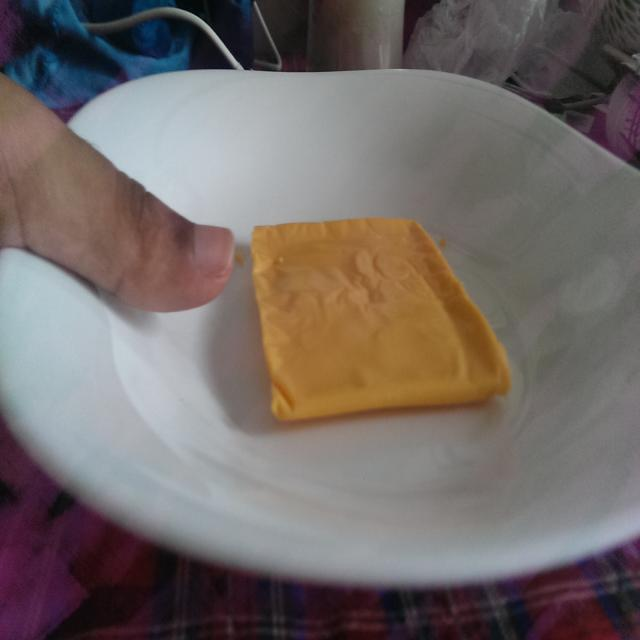Cheese: (247, 212, 520, 440)
Finger: (96, 138, 240, 322)
